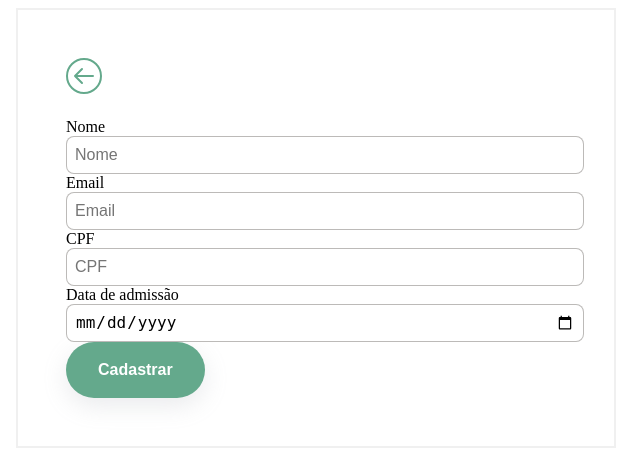
NewUser › should be able to throw error
Type "Joao Jose" into the field labelled "Nome" at (325,155), box [66,136,584,174]
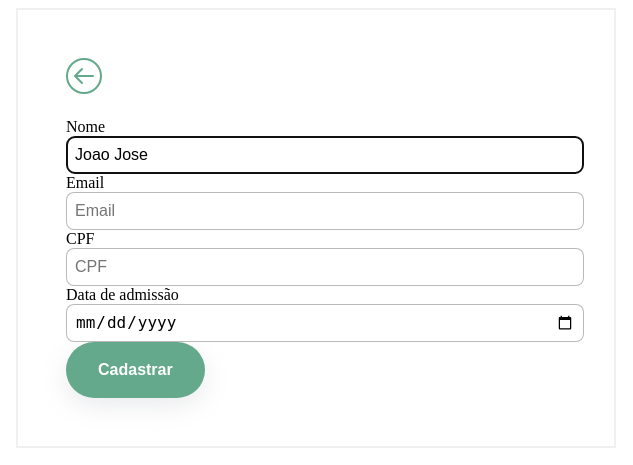
Type "joaojose@email.com" into the field labelled "Email" at (325,211), box [66,192,584,230]
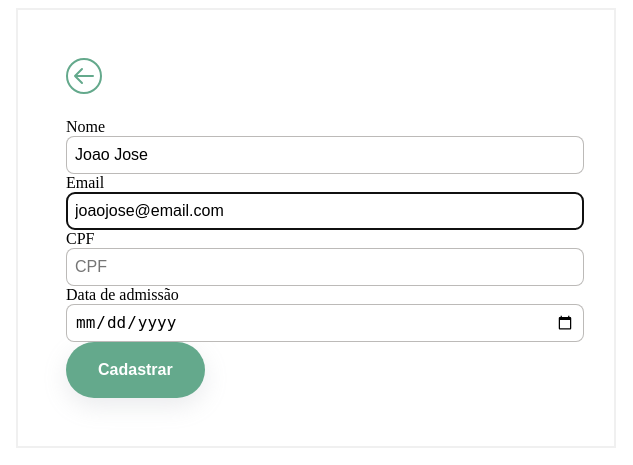
Type "14445124044" into the field labelled "CPF" at (325,267), box [66,248,584,286]
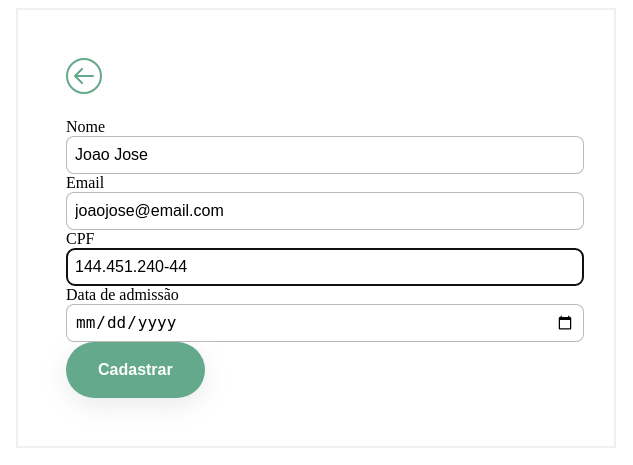
Type "1996-05-09" into the date field labelled "Data de admissão" at (325,323), box [66,304,584,342]
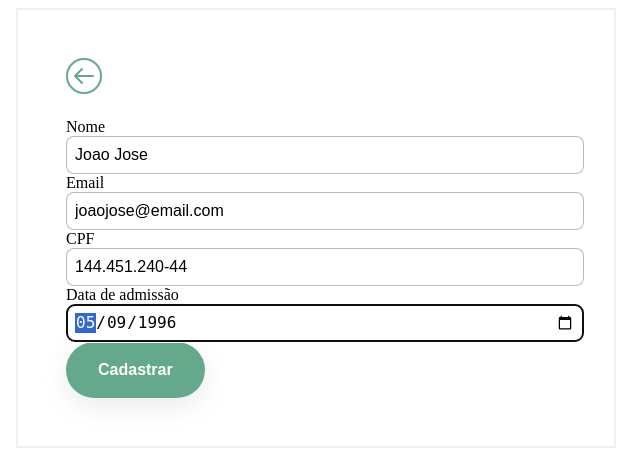
Click the button "Cadastrar" at (135,370), box [66,342,205,398]
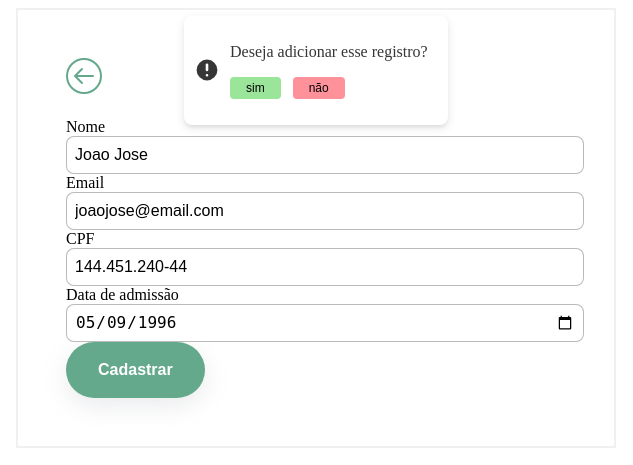
Click the button "sim" at (256,88), box [230,77,281,99]
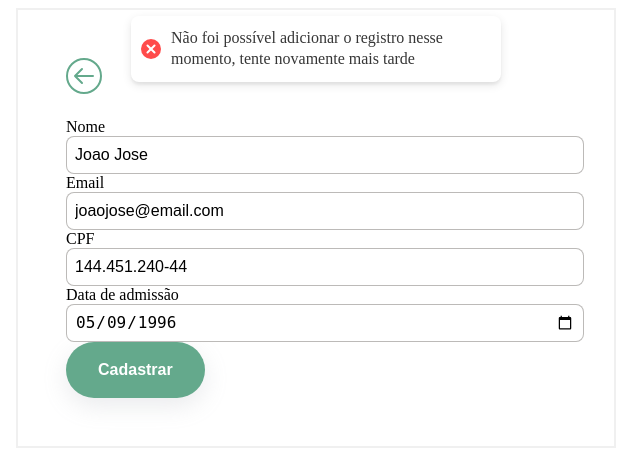
Check: the text "Não foi possível adicionar o registro nesse momento, tente novamente mais tarde" is shown, box [171,28,481,70]
